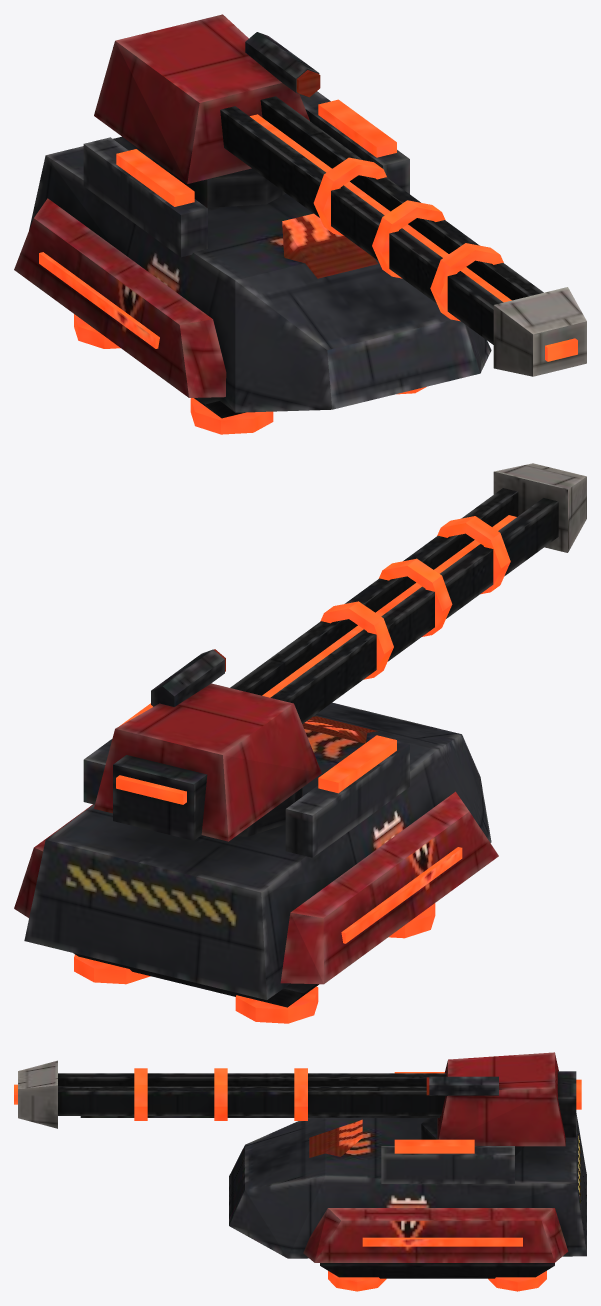
The model's file is u_lancer2_e.glb.
3 views of the same model, one above another, from view 1: azimuth 30°, elevation 25°; view 2: azimuth 150°, elevation 25°; view 3: azimuth 270°, elevation 25° (orthographic). The views are drawn at different scales.
Visible parts, largest first — view 1: u_lancer2_e; view 2: u_lancer2_e; view 3: u_lancer2_e.
Part boxes in pixels (x1,y1,x2,y2): u_lancer2_e: (14,14,586,434); u_lancer2_e: (14,463,586,1023); u_lancer2_e: (14,1052,586,1291).
Size of the model in its own units: 1.01 by 0.869 by 2.36.
1 material, 1 textured.
